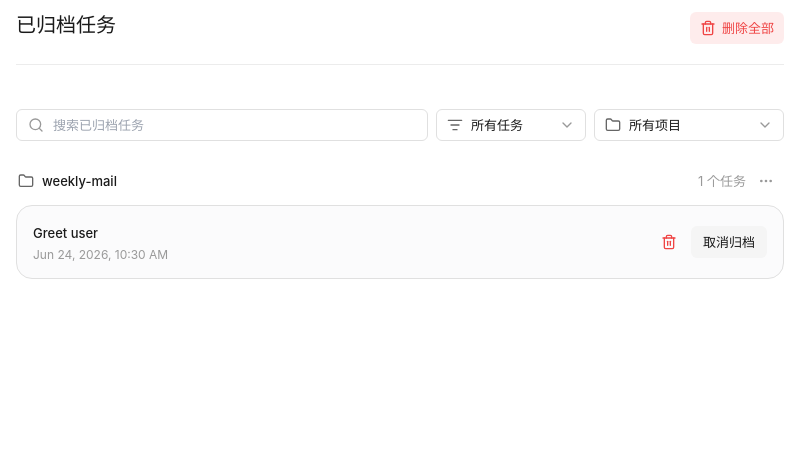
it: ArchivedConversationsSettingsPage › previews archived history without restoring or opening an active conversation
Click the button with test id "archived-open-button-device-1-codex-1": x=66, y=233 [33,224,98,242]
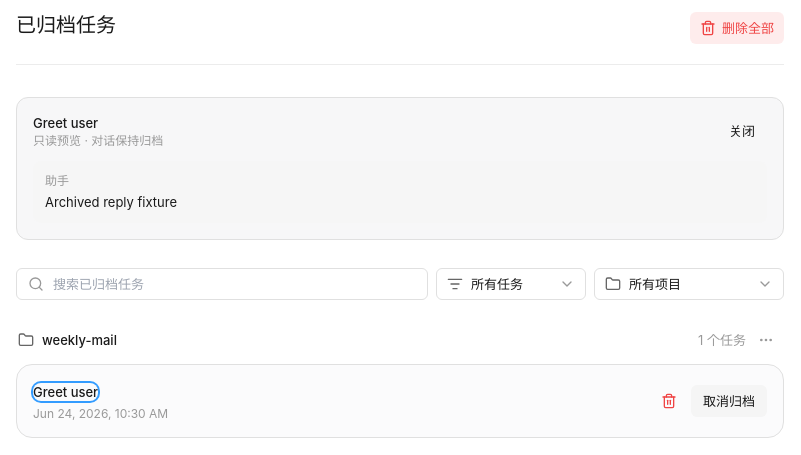
Now the text "Archived reply fixture" is shown, box [45,194,177,210]
Click the button with test id "archived-preview-close": x=742, y=131 [717,114,767,149]
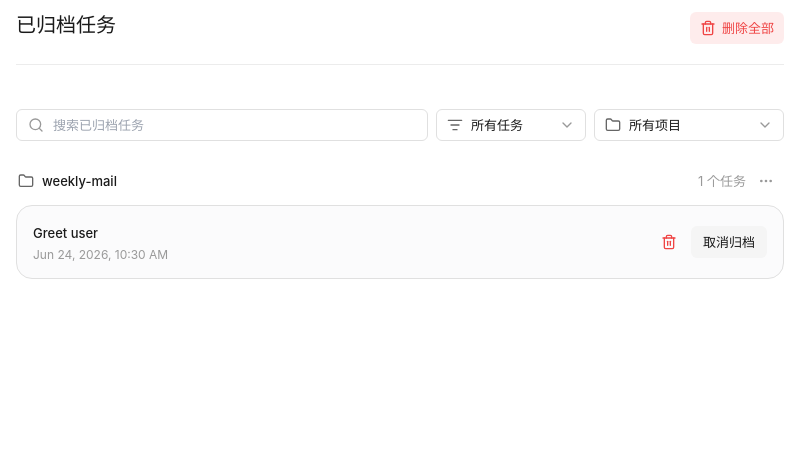
Now the element with test id "archived-preview" is gone
